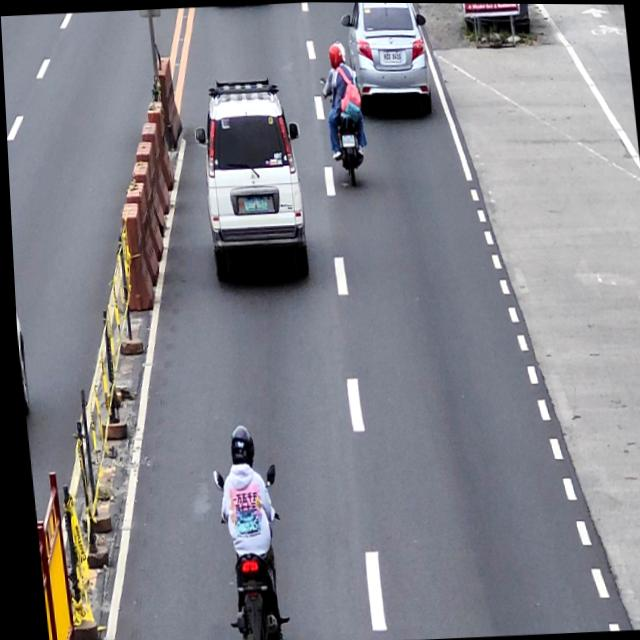Car: (195, 74, 309, 286), (347, 2, 434, 113)
License-Plate: (240, 195, 267, 215), (338, 131, 355, 149)
Motorcycle: (208, 424, 281, 640), (319, 36, 363, 185)
